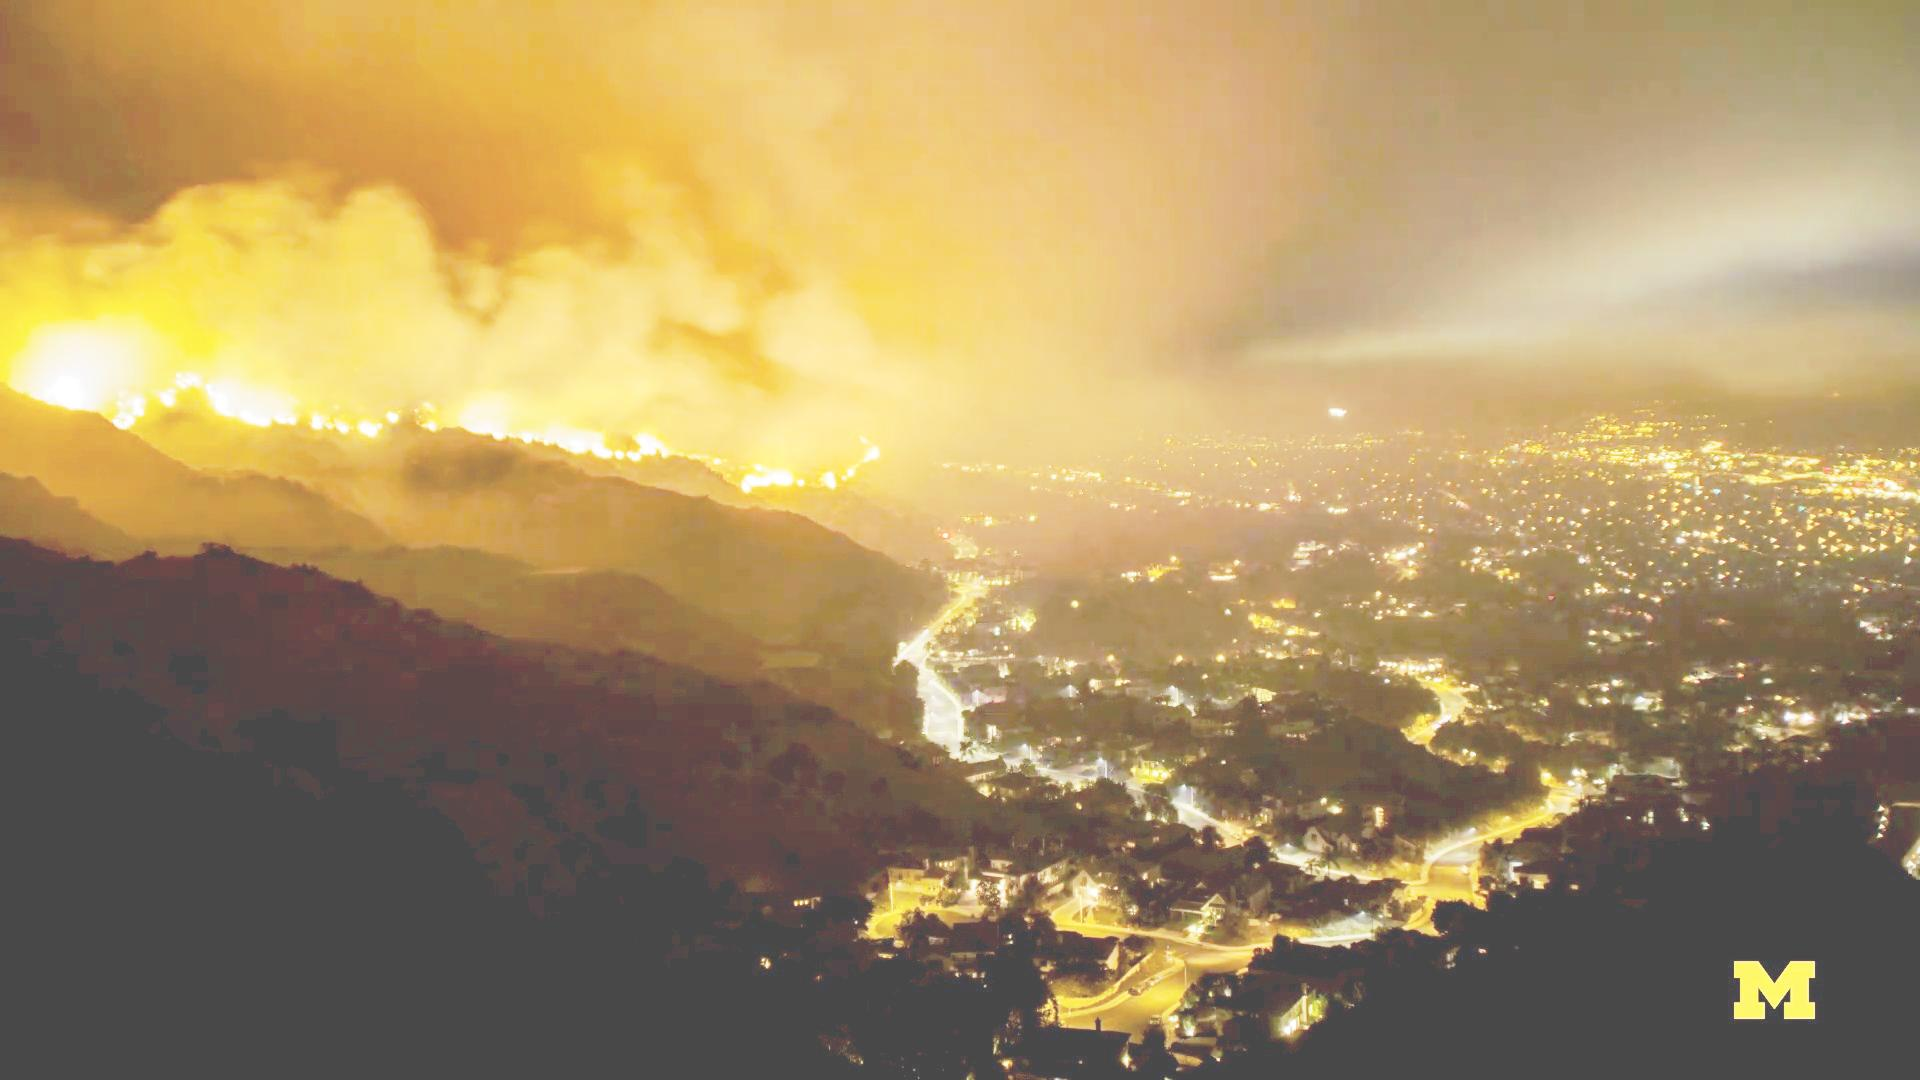fire: (0, 286, 653, 483), (713, 426, 905, 518)
smoke: (18, 3, 1098, 286), (630, 298, 1063, 425)
